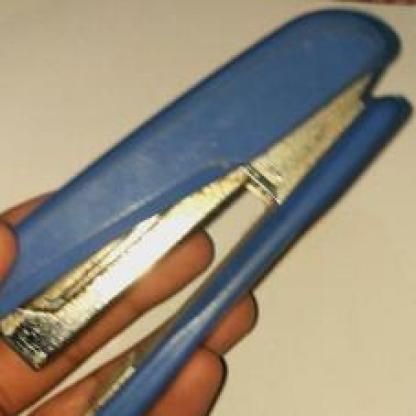stapler: (13, 9, 403, 414)
